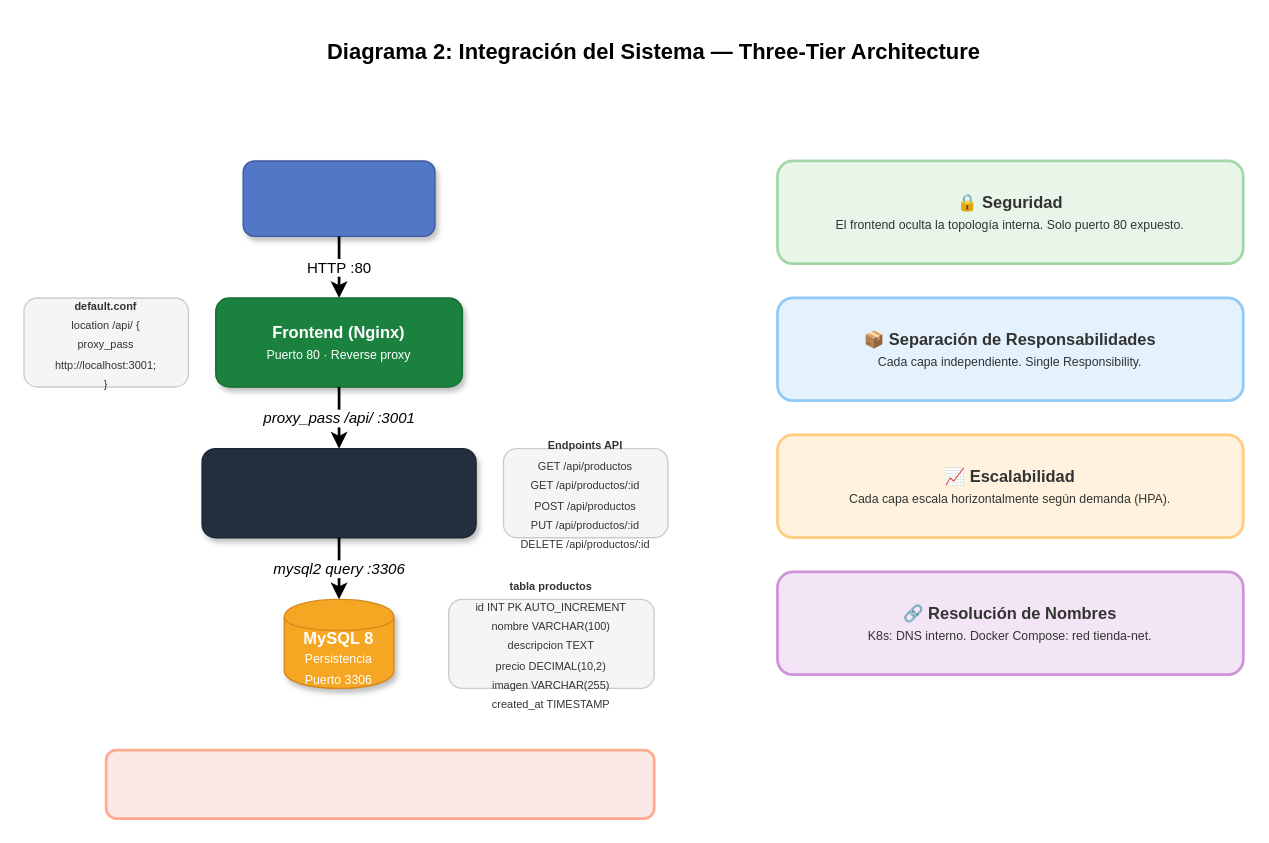
Some shapes in this 1269 by 843 pixel diagram are drawn without their labels. The shapes that lost their labels are listed below. From the top down, each one's centre as x and y in pixels, then its label:
(339,200): Usuario Navegador Web
(339,494): Backend (Node.js+Express) Puerto 3001 · API RESTful
(379,783): Arquitectura en 3 Capas (Three-Tier) Presentación → Lógica → Persistencia
